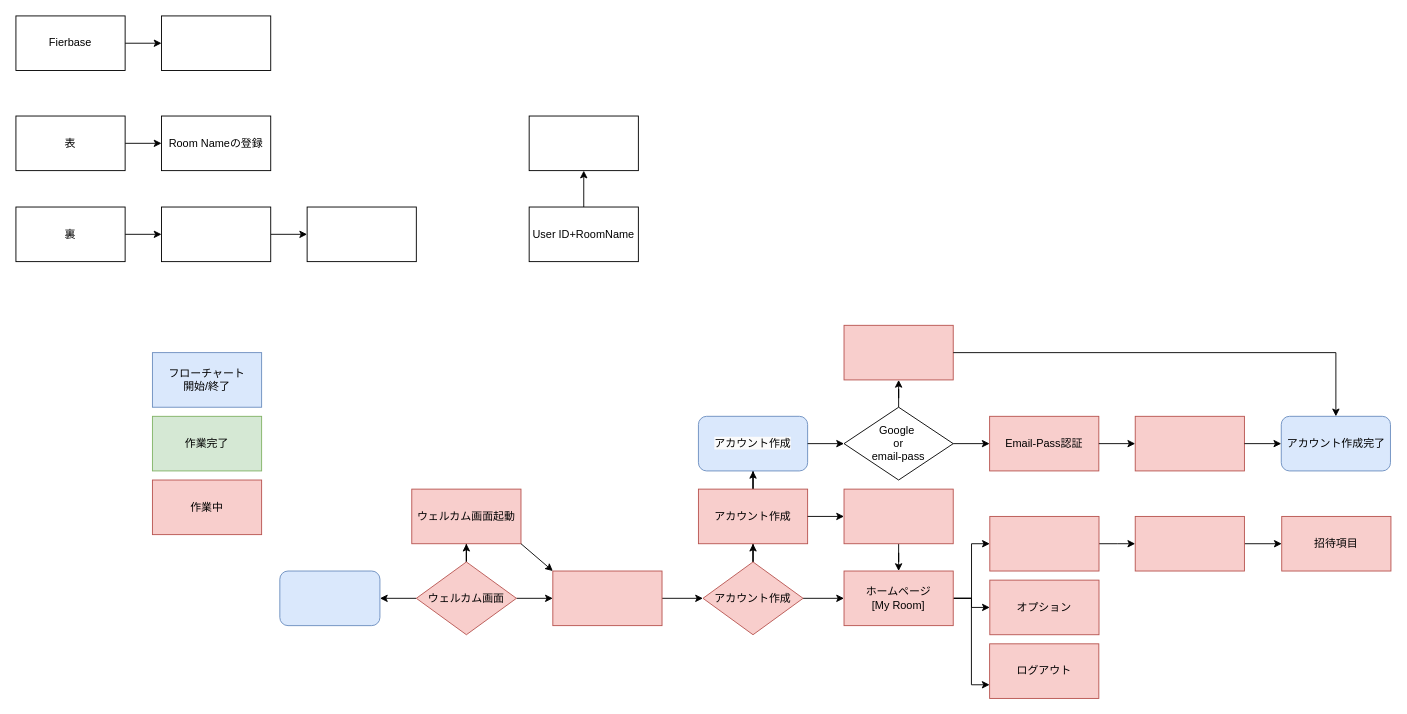
The diagram is 1407 pixels wide and 714 high, and some of its shapes have lost their labels. The centre of each missing label's shape, as x and y in pixels:
Google認証: pixel 898 352
New Room: pixel 1189 543
RoomName: pixel 583 143
UserID+Roomname: pixel 216 43
UserIDとRoomNameをdbに保存: pixel 216 234
メール送信本人確認: pixel 1189 443
ログイン: pixel 607 598
新しい部屋作成: pixel 1044 543
簡単なマニュアル？: pixel 898 516
起動: pixel 329 598
